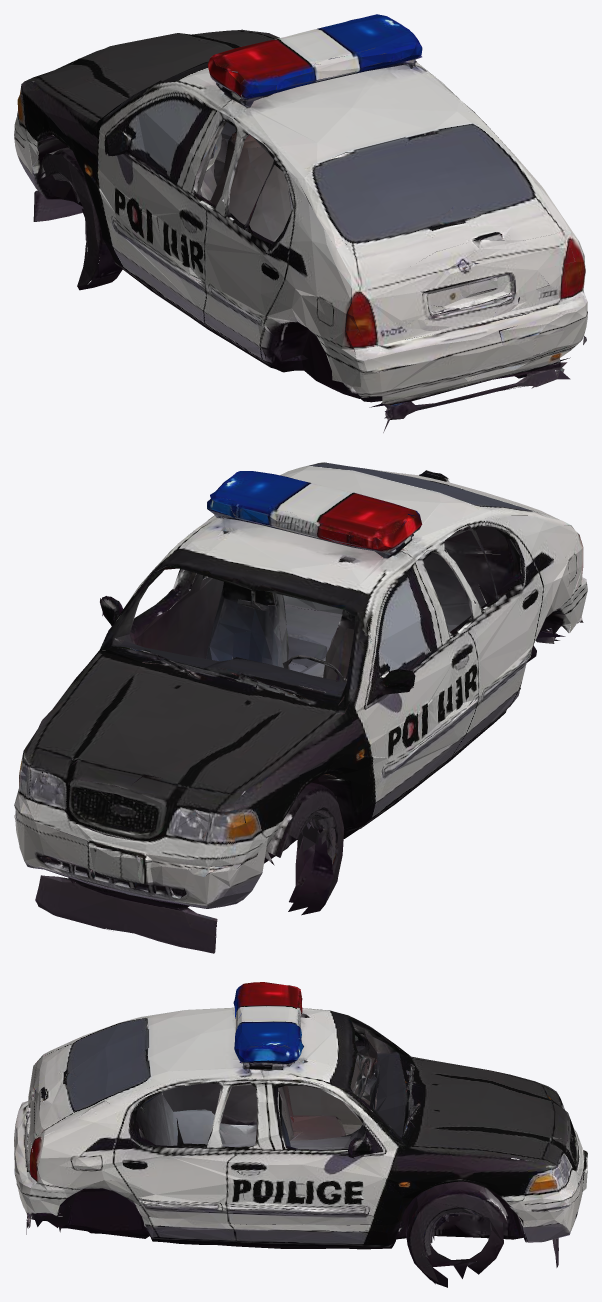
File: police_body.glb
3 renders of one model, top to bottom at view 1: azimuth 30°, elevation 25°; view 2: azimuth 150°, elevation 25°; view 3: azimuth 270°, elevation 25°, orthographic. The views are drawn at different scales.
Parts seen in each view (by area): view 1: geometry_0; view 2: geometry_0; view 3: geometry_0.
Part boxes in pixels (bbox=[...]): geometry_0: bbox=[14, 14, 587, 432]; geometry_0: bbox=[14, 462, 587, 953]; geometry_0: bbox=[14, 982, 587, 1287].
Size of the model in its own units: 0.481 by 0.445 by 1.
1 material, 1 textured.
